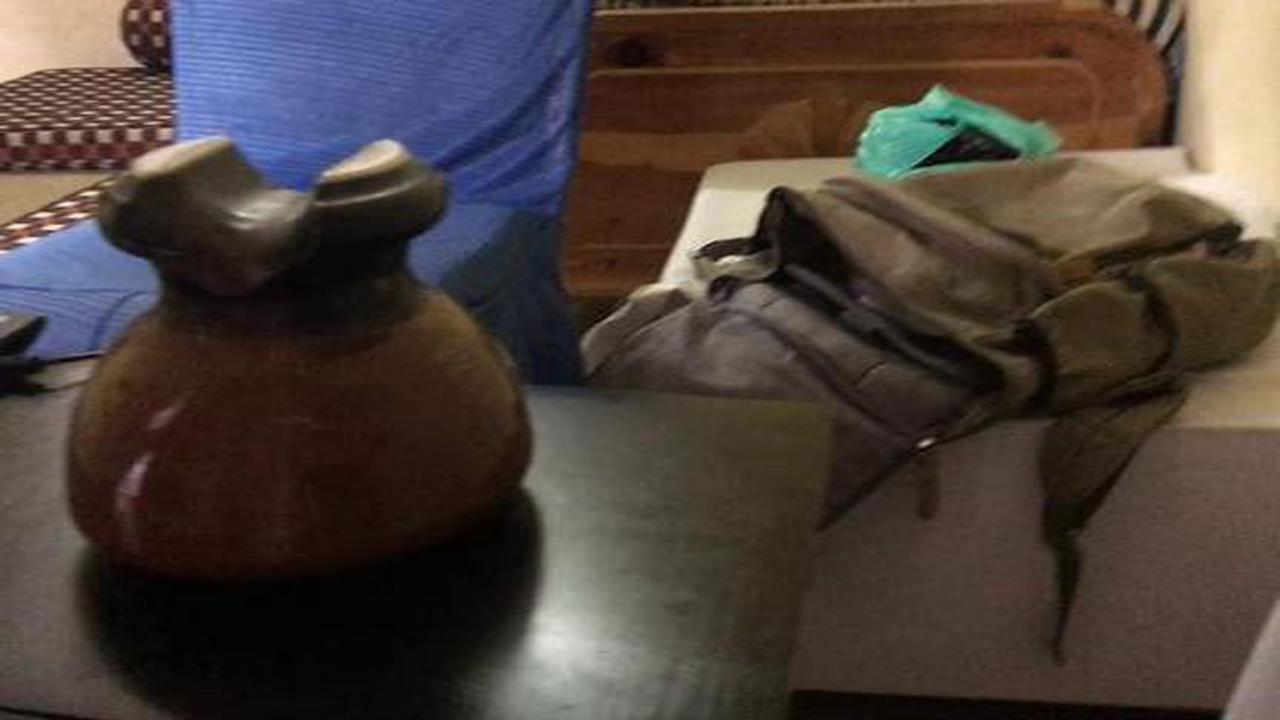insulator_pin: (47, 123, 573, 605)
